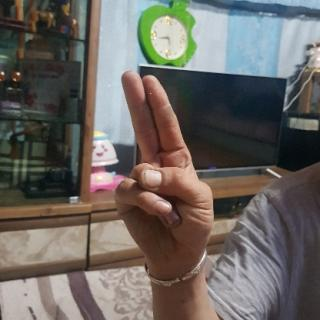TA: (114, 67, 219, 274)
